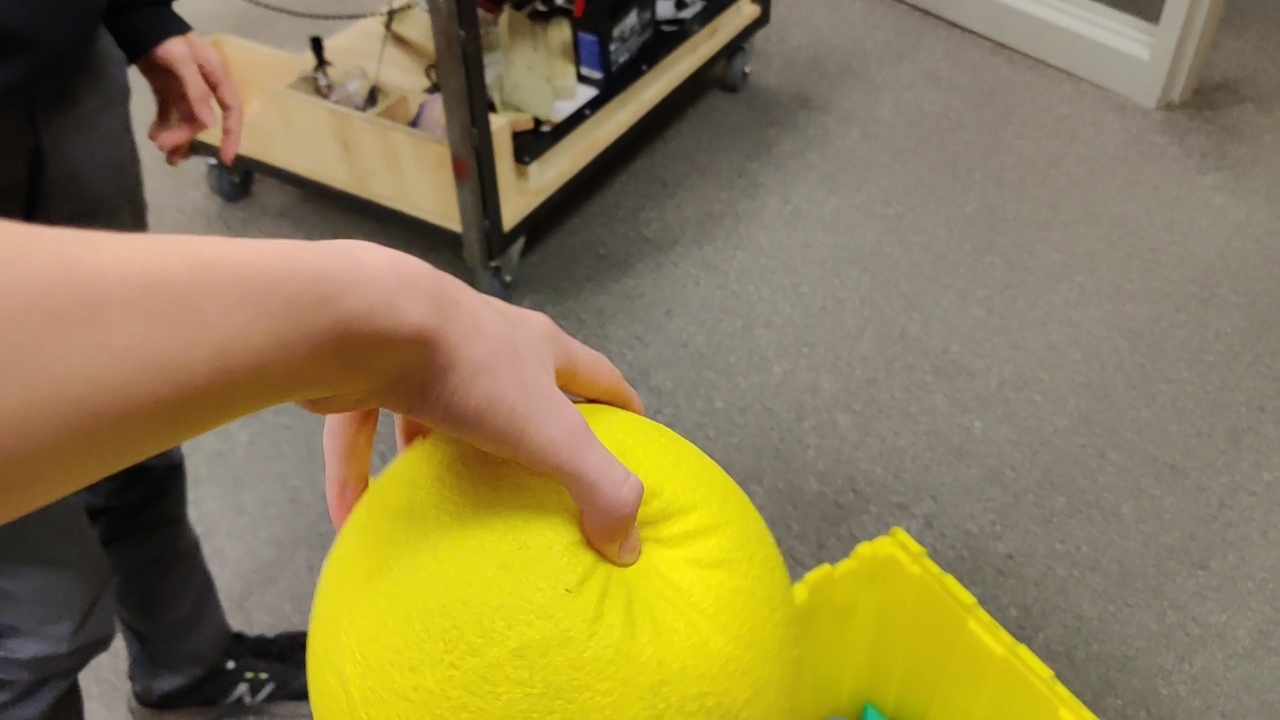Ball: (304, 403, 805, 720)
